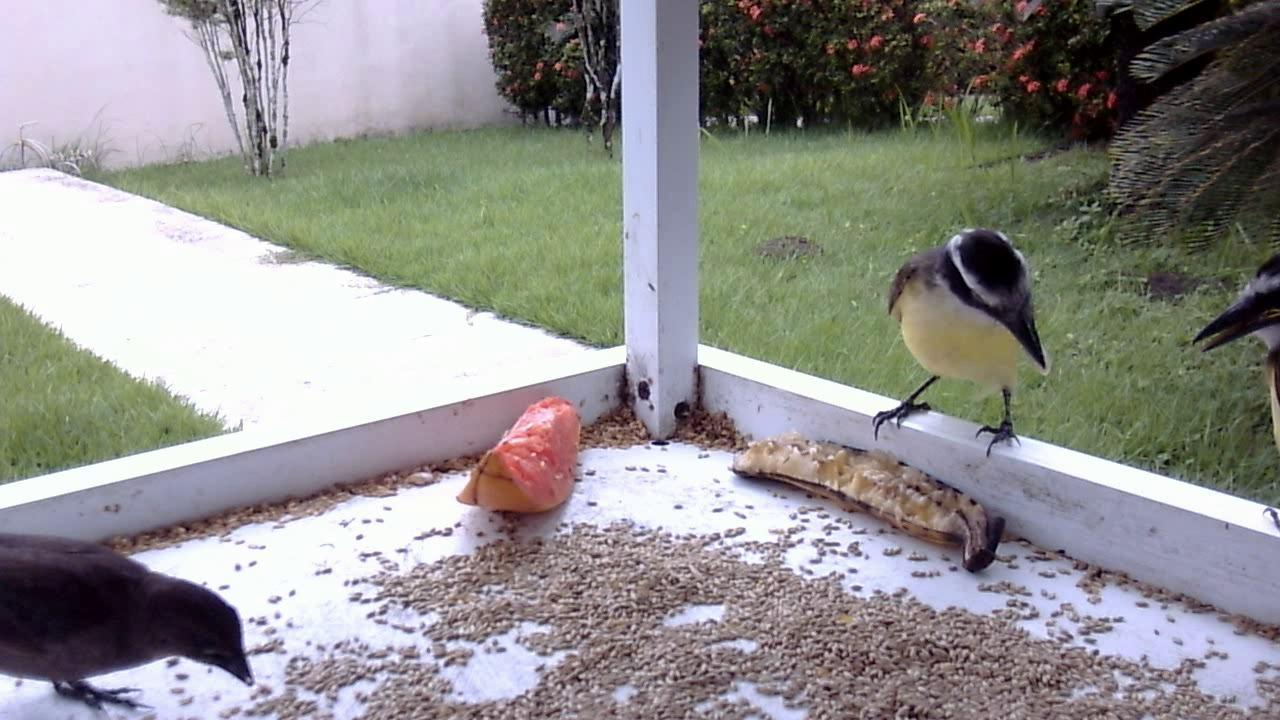bem_te_vi: (864, 220, 1051, 460), (1182, 231, 1280, 525)
chupim: (1, 521, 272, 720)
